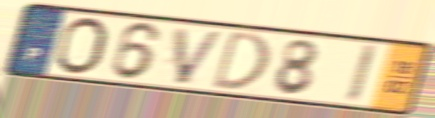6: (109, 20, 162, 82)
8: (274, 38, 323, 98)
D: (208, 28, 273, 92)
I: (342, 42, 381, 105)
O: (51, 15, 111, 77)
V: (172, 25, 228, 87)
